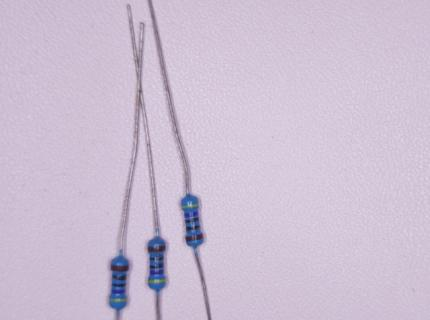Black band: (186, 217, 198, 223), (113, 275, 126, 280), (151, 264, 163, 268), (187, 226, 199, 230), (113, 284, 126, 287), (151, 257, 164, 260)
Brown band: (186, 234, 202, 242), (111, 265, 128, 271), (148, 246, 165, 252)
Violet band: (184, 211, 198, 218), (111, 289, 126, 294), (150, 270, 164, 274)
Yellow band: (181, 203, 199, 209), (148, 278, 166, 283), (110, 298, 127, 302)
